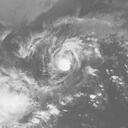cyclone: (46, 44, 76, 76)
